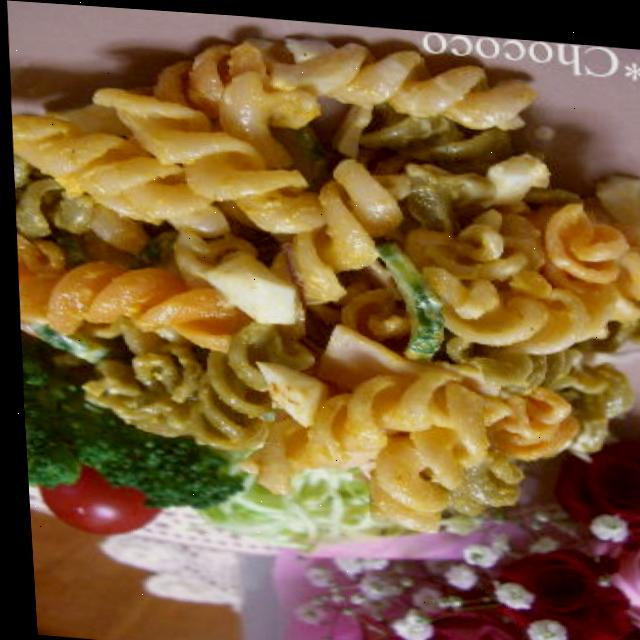蔬菜料理: (0, 3, 640, 559)
